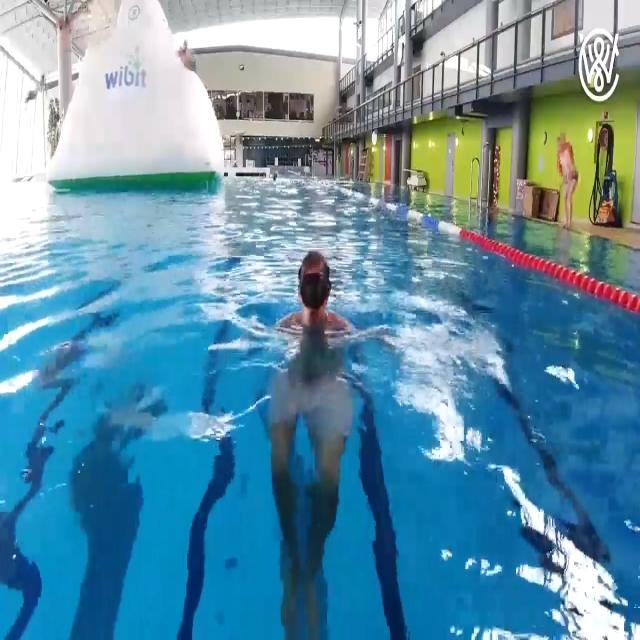Swimming: (276, 251, 352, 351)
